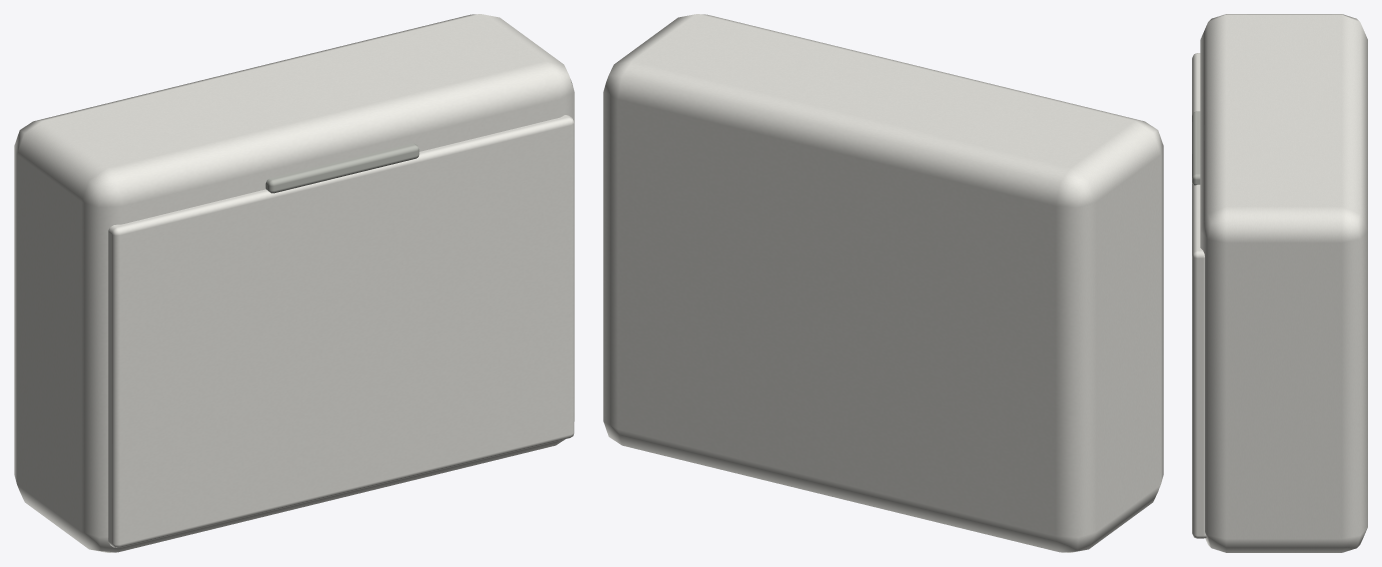
The model's file is trones-mobile.glb.
The picture shows the model from 3 angles, left to right: view 1: azimuth 30°, elevation 25°; view 2: azimuth 150°, elevation 25°; view 3: azimuth 270°, elevation 25°; orthographic projection. The views are drawn at different scales.
Parts seen in each view (by area): view 1: TRONES Shoe cabinet, one unit; view 2: TRONES Shoe cabinet, one unit; view 3: TRONES Shoe cabinet, one unit.
Boxes of the visible parts, x1,y1,x2,y2 form: TRONES Shoe cabinet, one unit: (14,14,574,552); TRONES Shoe cabinet, one unit: (603,14,1163,552); TRONES Shoe cabinet, one unit: (1192,14,1367,552).
Size of the model in its own units: 0.52 by 0.39 by 0.18.
2 materials, 2 textured.
